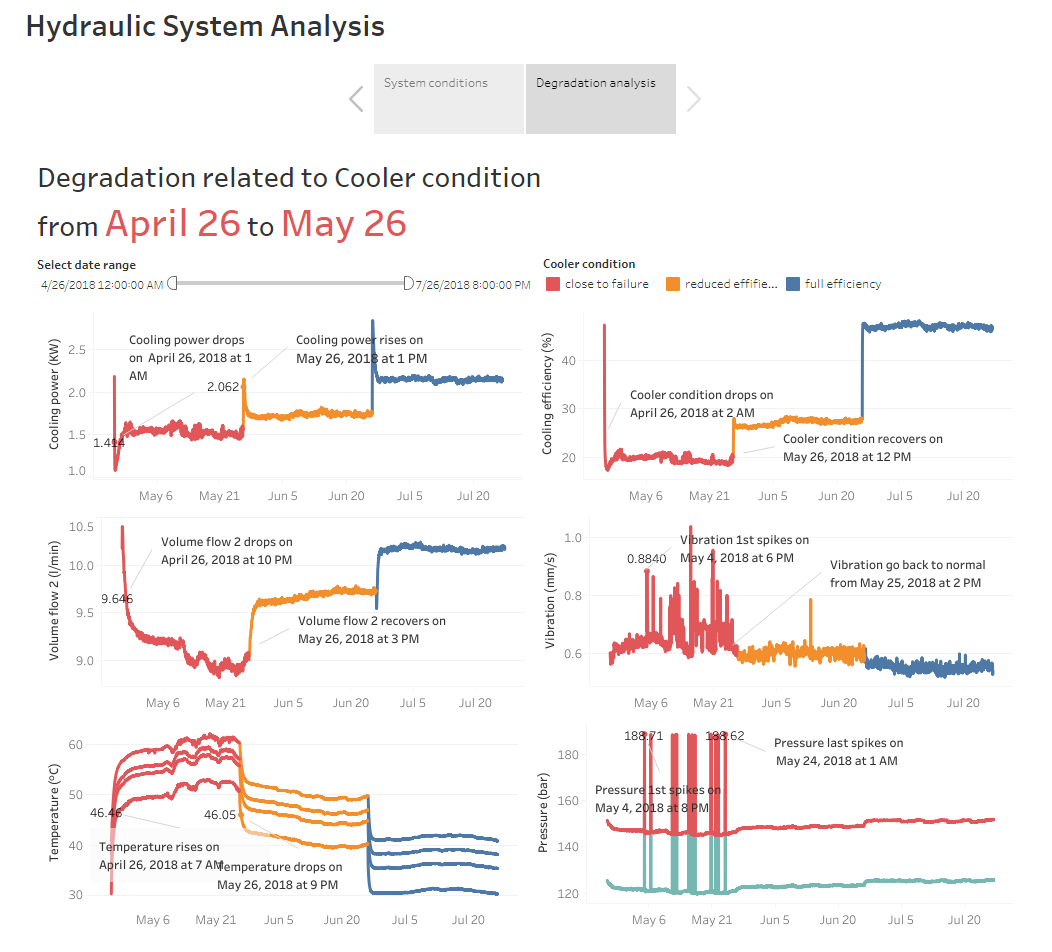

What the dashboard file says about the page in this screenshot:
{"tool":"tableau","page":{"name":"Degradation related to Cooler condition","canvas":[1000,800],"ordinal":1},"visuals":[{"type":"title","box":[8,8,984,96]},{"type":"filter","title":"Cooling power by Cooler Condition","param":"[federated.0j4qqtx10h2574159vy4h10q8yzr].[none:Date:qk]","box":[8,104,506,55.9]},{"type":"legend","title":"Cooling power by Cooler Condition","param":"[federated.0j4qqtx10h2574159vy4h10q8yzr].[none:F2:ok]","box":[514,104,478,55.9]},{"type":"worksheet","title":"Cooling power by Cooler Condition","mark":"Automatic","rows":["Cooling power"],"cols":["Date"],"box":[8,159.9,493.5,206.7]},{"type":"worksheet","title":"Cooling Efficiency by Cooler Condition","mark":"Automatic","rows":["Cooling efficiency"],"cols":["Date"],"box":[501.5,159.9,490.5,206.7]},{"type":"worksheet","title":"Volume flow by Cooler Condition","mark":"Automatic","rows":["Volume flow l/min 2"],"cols":["Date"],"box":[8,366.5,496,207.6]},{"type":"worksheet","title":"Vibration","mark":"Automatic","rows":["Vibration mm/s"],"cols":["Date"],"box":[504,366.5,488,207.6]},{"type":"worksheet","title":"Temp. by Cooler Condition","mark":"Automatic","cols":["Date"],"box":[8,574.1,488.5,217.9]},{"type":"worksheet","title":"Pressure by Cooler Condition","mark":"Automatic","cols":["Date"],"box":[496.5,574.1,495.5,217.9]}]}

Visuals, with their boxes on the page's 1000x800 design canvas (x1, y1, x2, y2). These are canvas units, not pixel positions in the 1052x952 screenshot, which may show the page scaled, cropped or inside an application window:
title: box(8, 8, 992, 104)
"Cooling power by Cooler Condition" filter: box(8, 104, 514, 160)
"Cooling power by Cooler Condition" legend: box(514, 104, 992, 160)
"Cooling power by Cooler Condition" worksheet: box(8, 160, 502, 367)
"Cooling Efficiency by Cooler Condition" worksheet: box(502, 160, 992, 367)
"Volume flow by Cooler Condition" worksheet: box(8, 366, 504, 574)
"Vibration" worksheet: box(504, 366, 992, 574)
"Temp. by Cooler Condition" worksheet: box(8, 574, 496, 792)
"Pressure by Cooler Condition" worksheet: box(496, 574, 992, 792)
